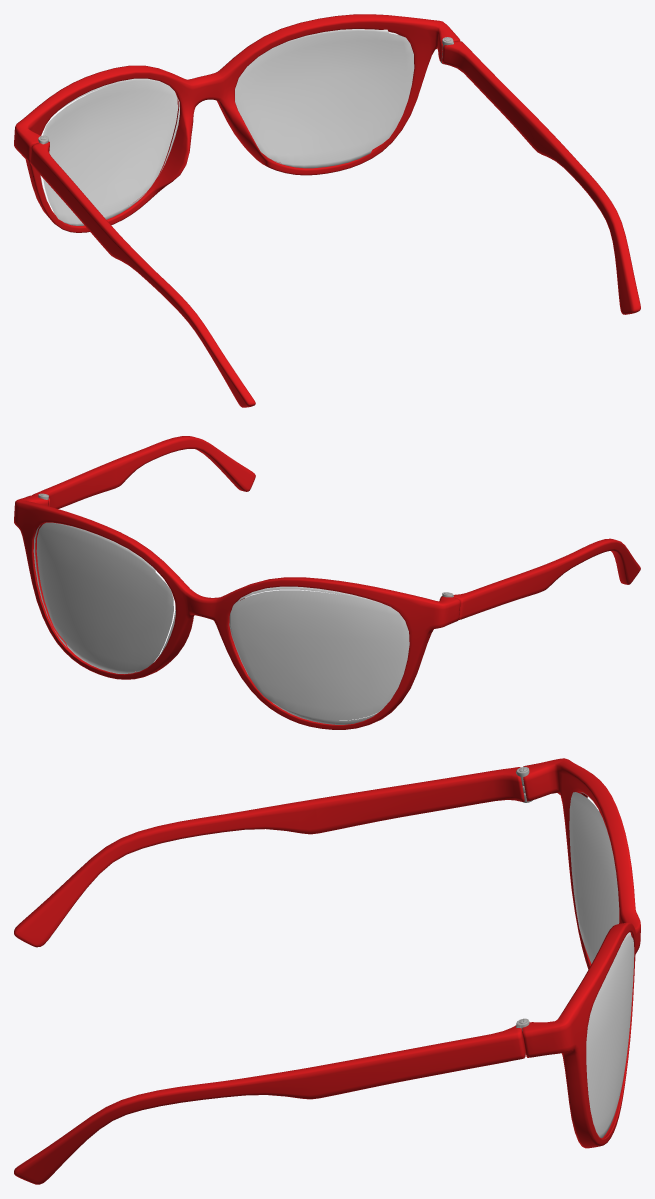
3 renders of one model, top to bottom at view 1: azimuth 30°, elevation 25°; view 2: azimuth 150°, elevation 25°; view 3: azimuth 270°, elevation 25°, orthographic. The views are drawn at different scales.
Parts seen in each view (by area): view 1: lens.003, frame.005; view 2: lens.003, frame.005; view 3: frame.005, lens.003.
Part boxes in pixels (box(x1,y1,x2,y2)): lens.003: box(43, 29, 414, 223); frame.005: box(14, 14, 640, 407); lens.003: box(36, 522, 408, 720); frame.005: box(14, 436, 640, 729); frame.005: box(14, 758, 640, 1184); lens.003: box(569, 792, 634, 1138).
Bounding box in the file's own units: 1.2 × 0.3928 × 1.16.
Materials: 3 (1 with a texture image).
